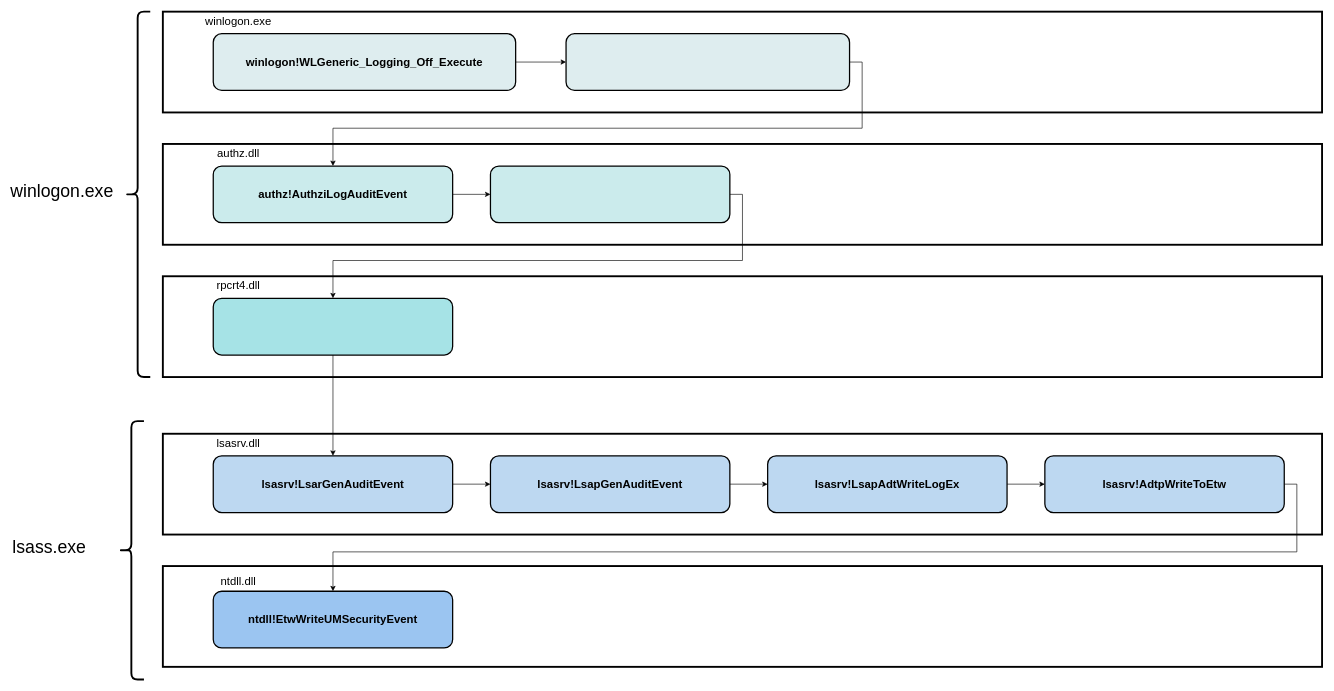
Image size: 1334x691. Some labels were removed from this diagram. Each missing label, with the box of its shape:
authz!AuthzpSendAuditToLsa: (490, 165, 730, 223)
rpcrt4!NdrClientCall3: (212, 297, 453, 355)
winlogon!CUser::GenerateLogoffInitiatedAudit: (565, 33, 850, 91)
